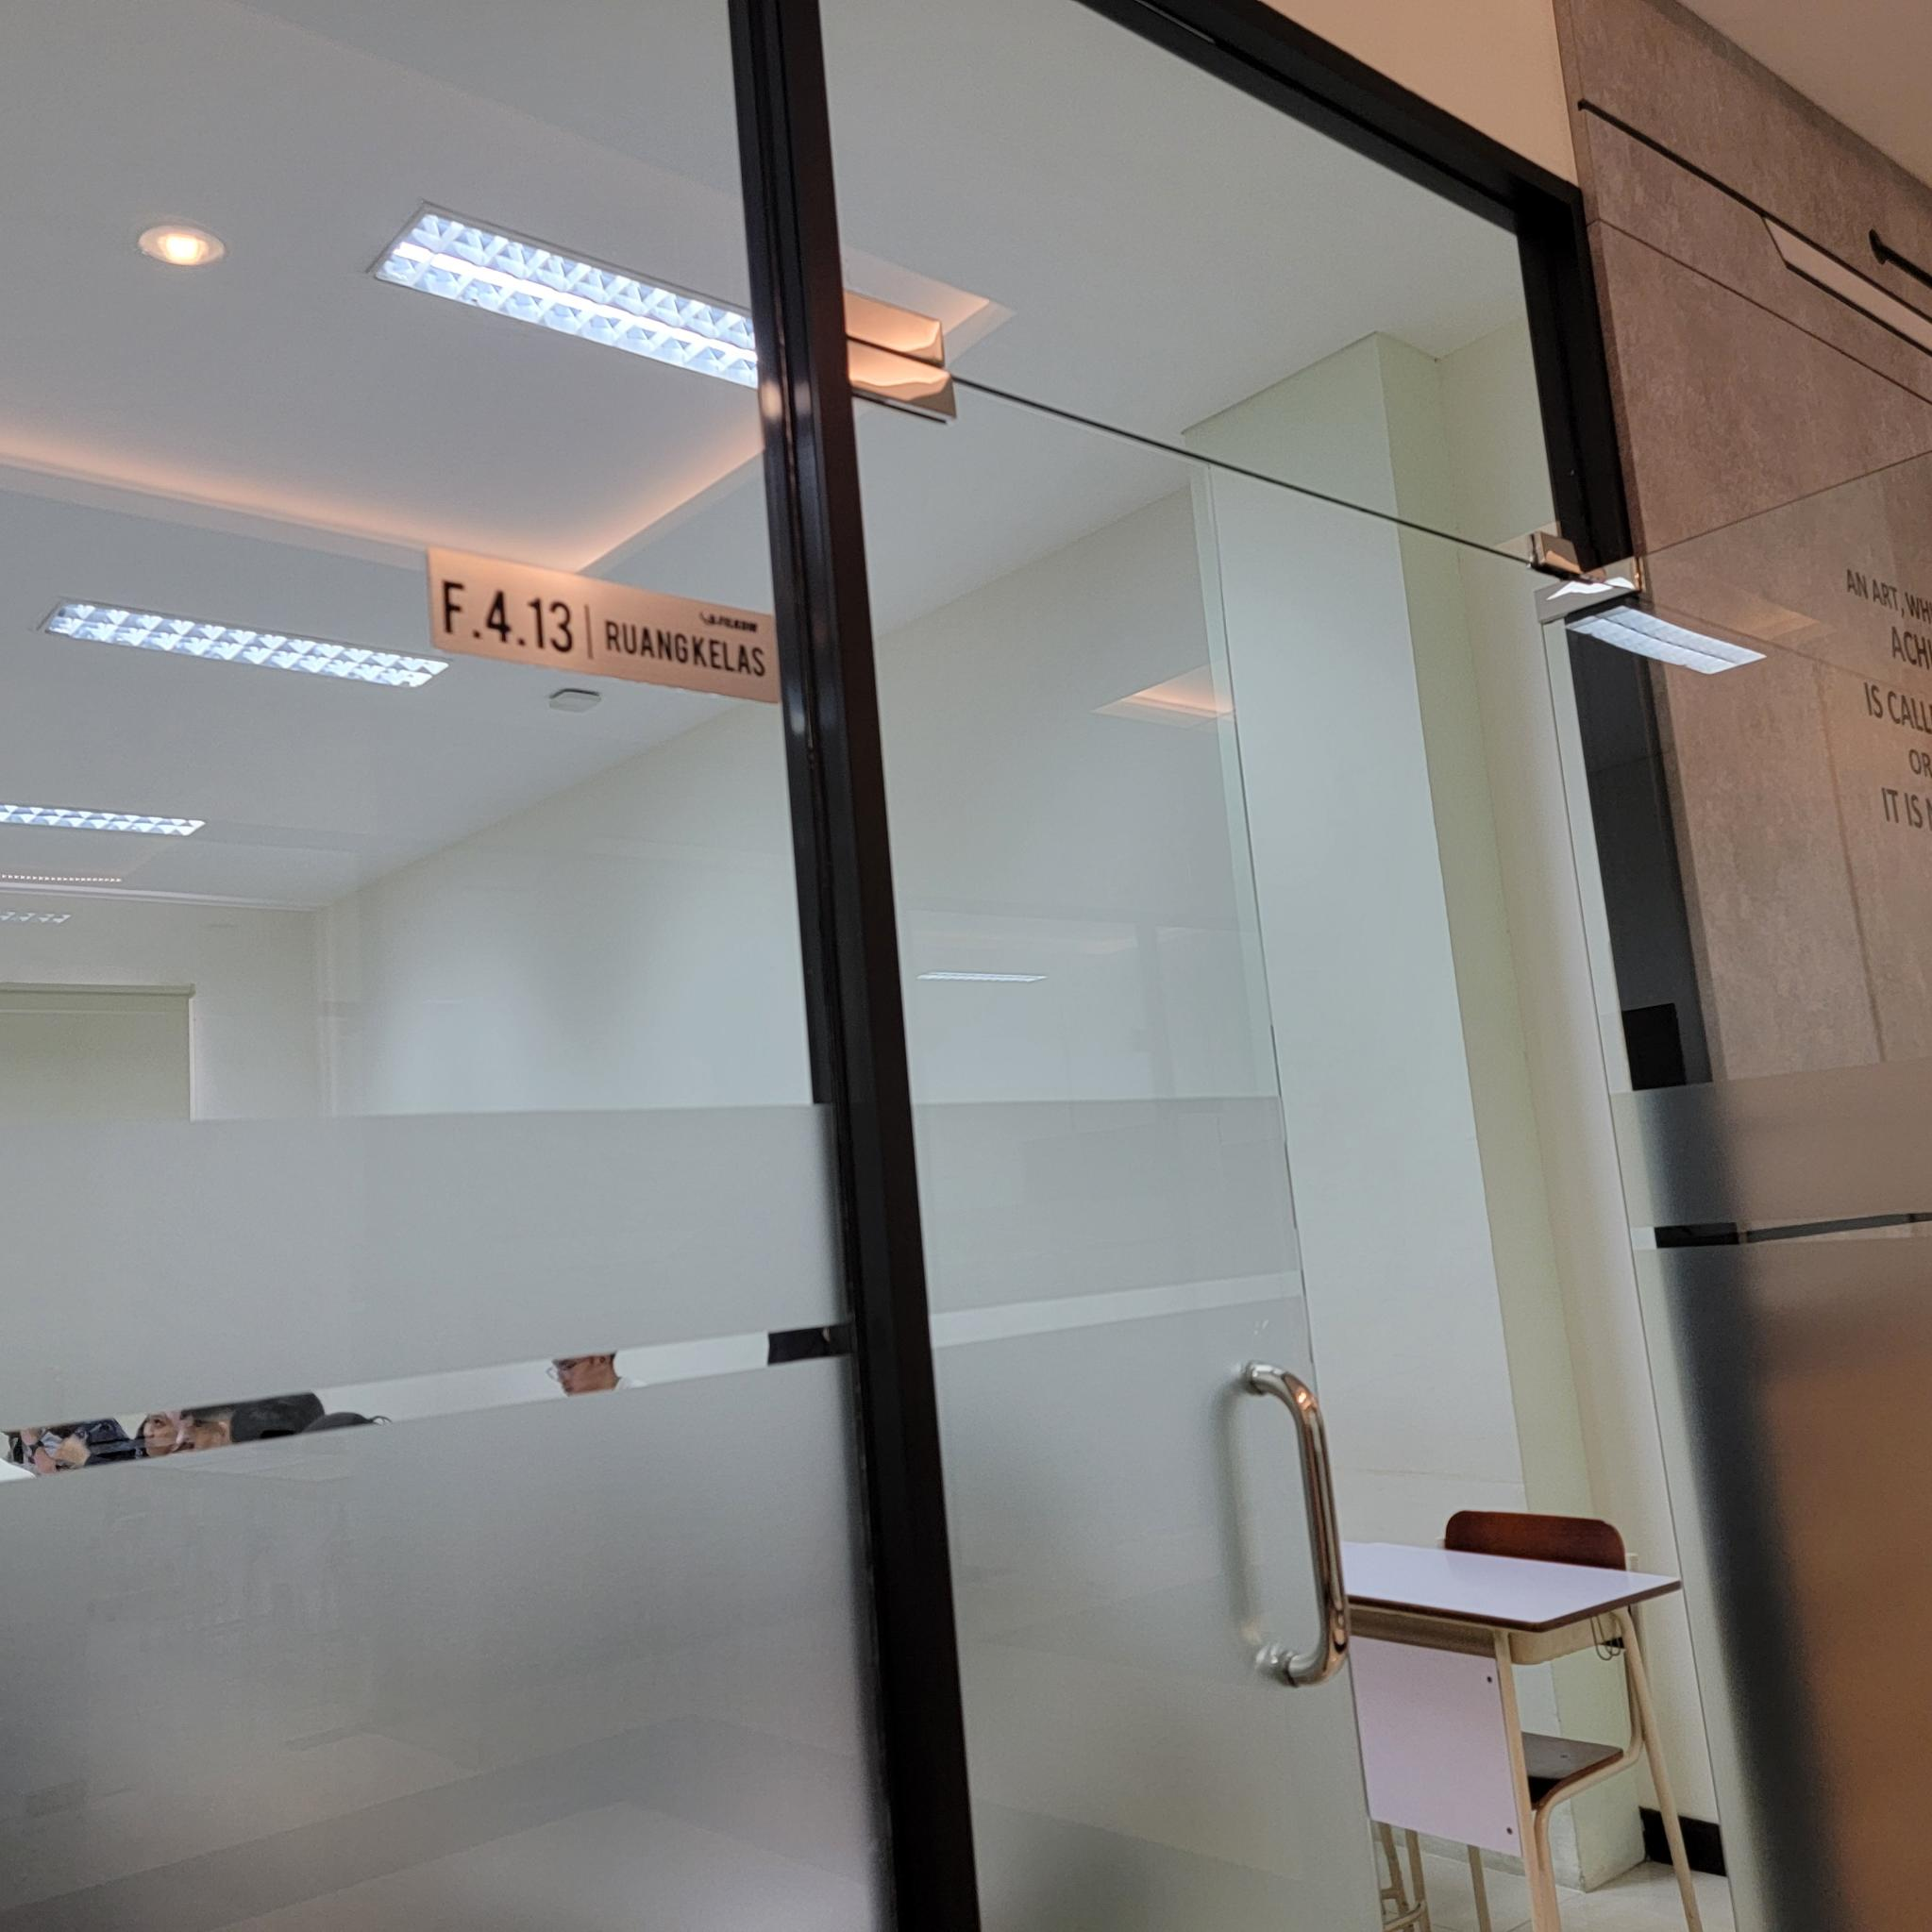plate: (426, 543, 780, 706)
